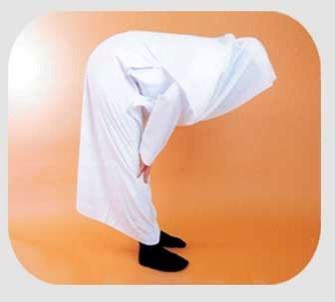ruku: (66, 21, 283, 275)
